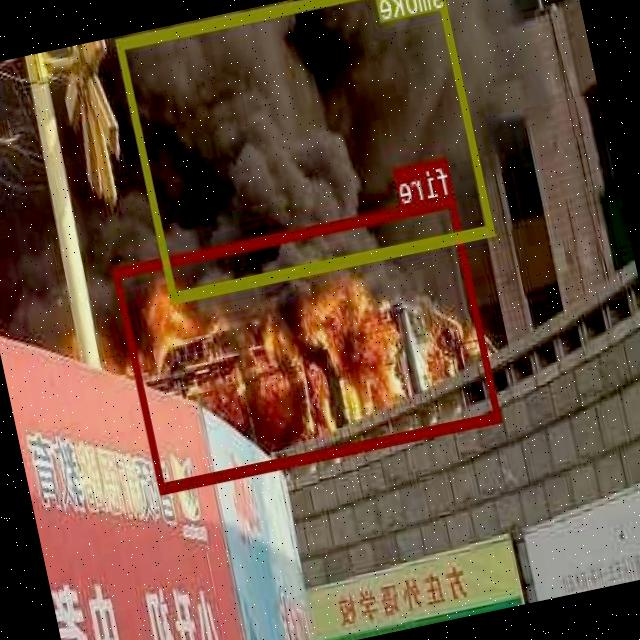fire: (113, 193, 503, 491)
smoke: (115, 0, 495, 301)
